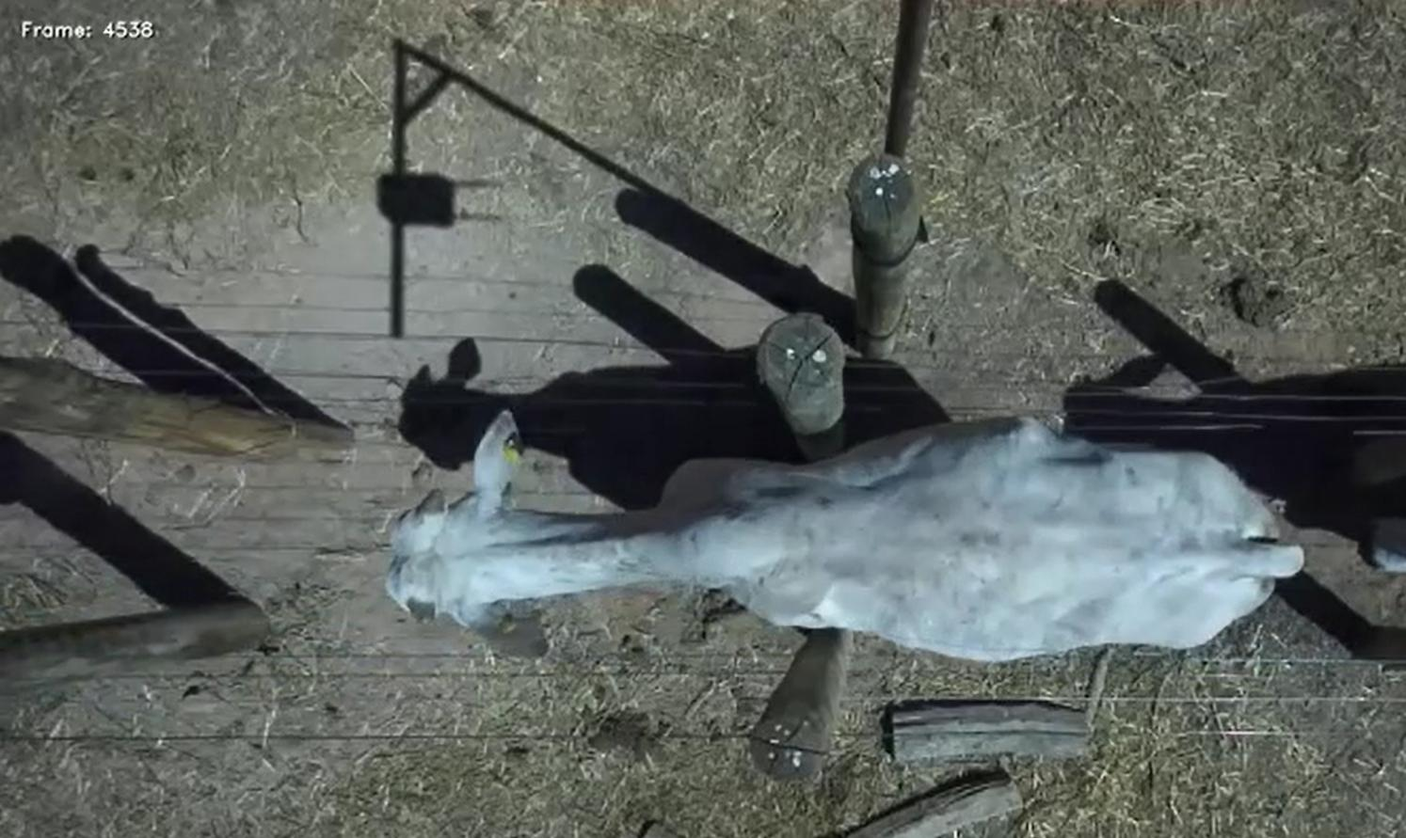cattle: (377, 388, 1318, 670)
